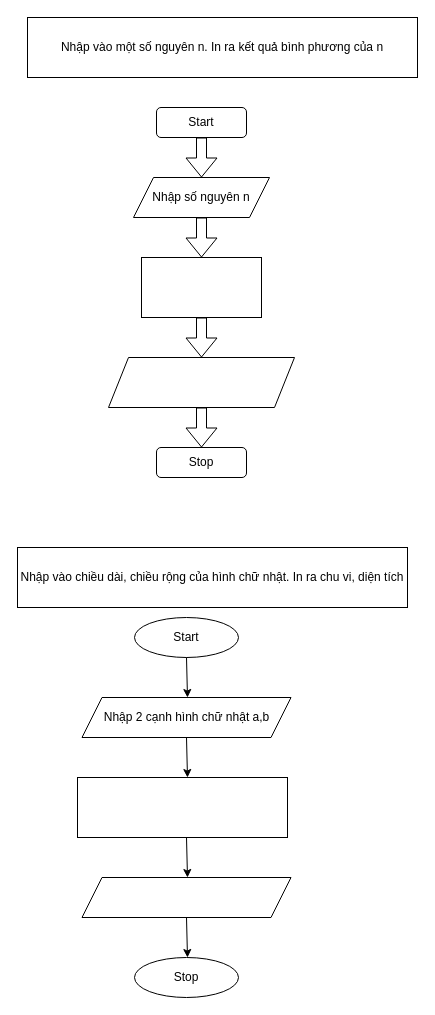
The diagram is 435 pixels wide and 1015 high, and some of its shapes have lost their labels. The shapes that lost their labels are listed below. From the top down, each one's centre as x and y in pixels, then its label:
(x=201, y=287): n^2 = n*n
(x=201, y=382): Hiển thị n^2
(x=182, y=807): Chu vi P = (a+b)*2 Diện tích S= a*b
(x=186, y=897): Print P Print S
